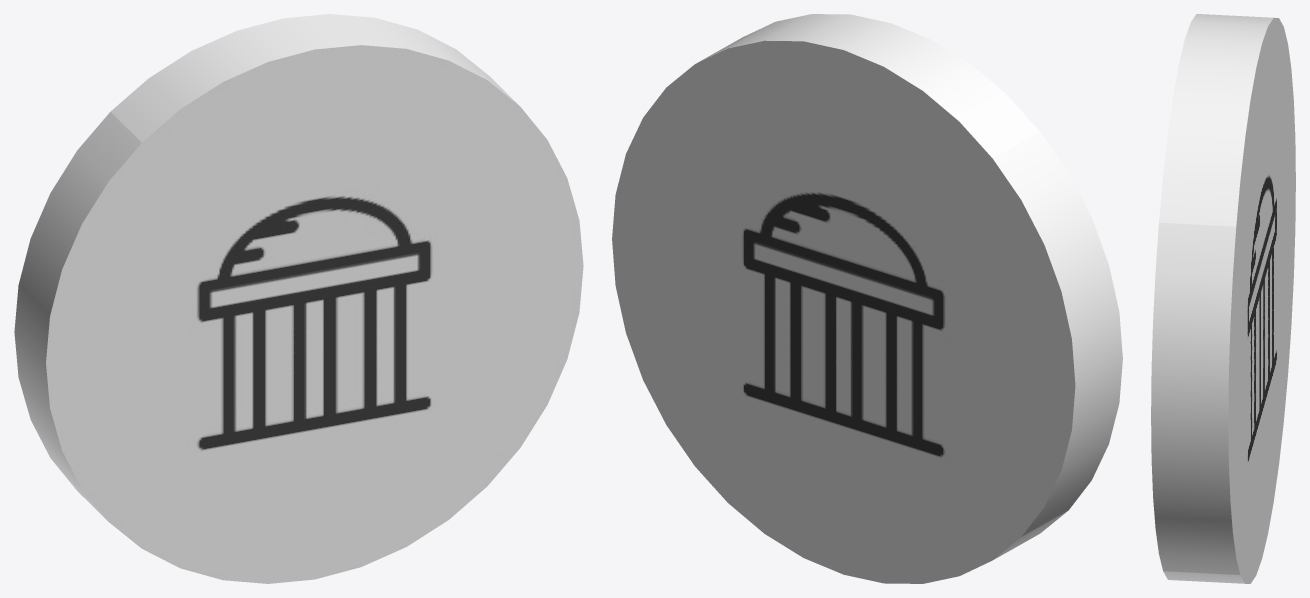
File: museum_district.glb
3 views of the same model, side by side, from view 1: azimuth 30°, elevation 25°; view 2: azimuth 150°, elevation 25°; view 3: azimuth 270°, elevation 25° (orthographic). The views are drawn at different scales.
Visible parts, largest first — view 1: MD_Anim; view 2: MD_Anim; view 3: MD_Anim.
Part boxes in pixels (x1,y1,x2,y2): MD_Anim: (14,14,583,583); MD_Anim: (612,14,1122,583); MD_Anim: (1151,14,1295,583).
Bounding box in the file's own units: 1.92 × 1.9 × 0.4846.
1 material, 1 textured.
